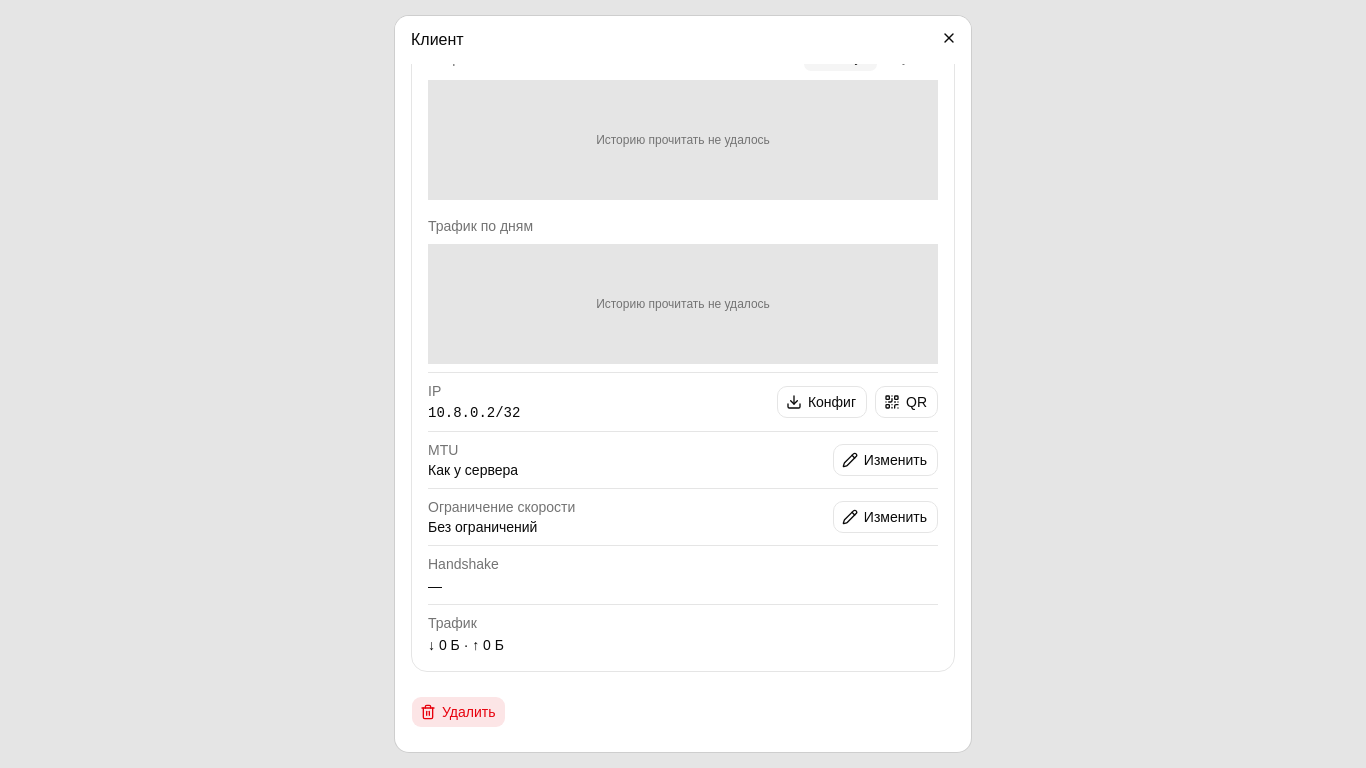
Test case: ClientInfoDialog › gives delete confirm Отмена and Удалить 48px mobile tap targets
(page scrolled)
Click the button "Удалить" at (459, 712), box top-left (411, 696), bottom-right (506, 728)
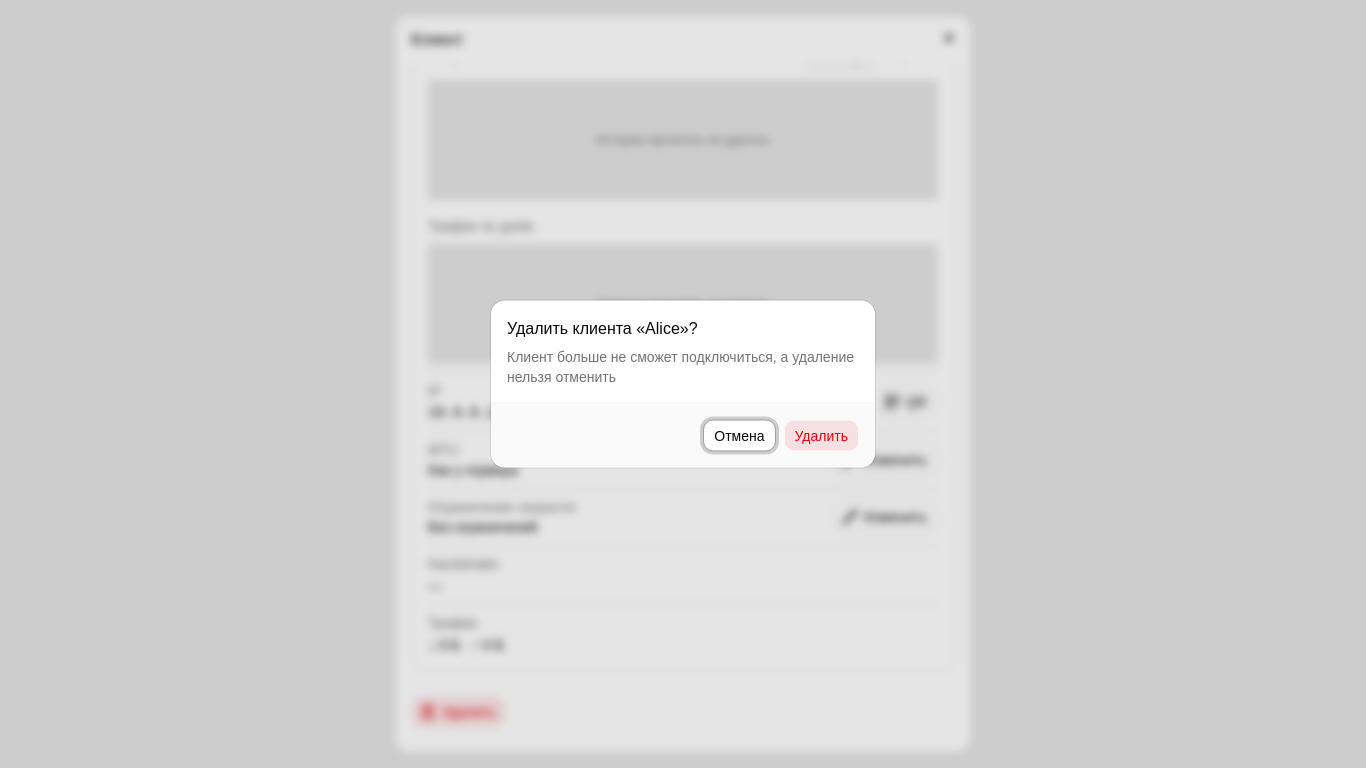
Expected: the dialog that starts with "Удалить клиента «" does not show "awg0.conf", top-left (491, 300), bottom-right (875, 468)
Result: the dialog that starts with "Удалить клиента «" shows "Клиент больше не сможет подключиться, а удаление нельзя отменить" at top-left (507, 348), bottom-right (854, 384)
